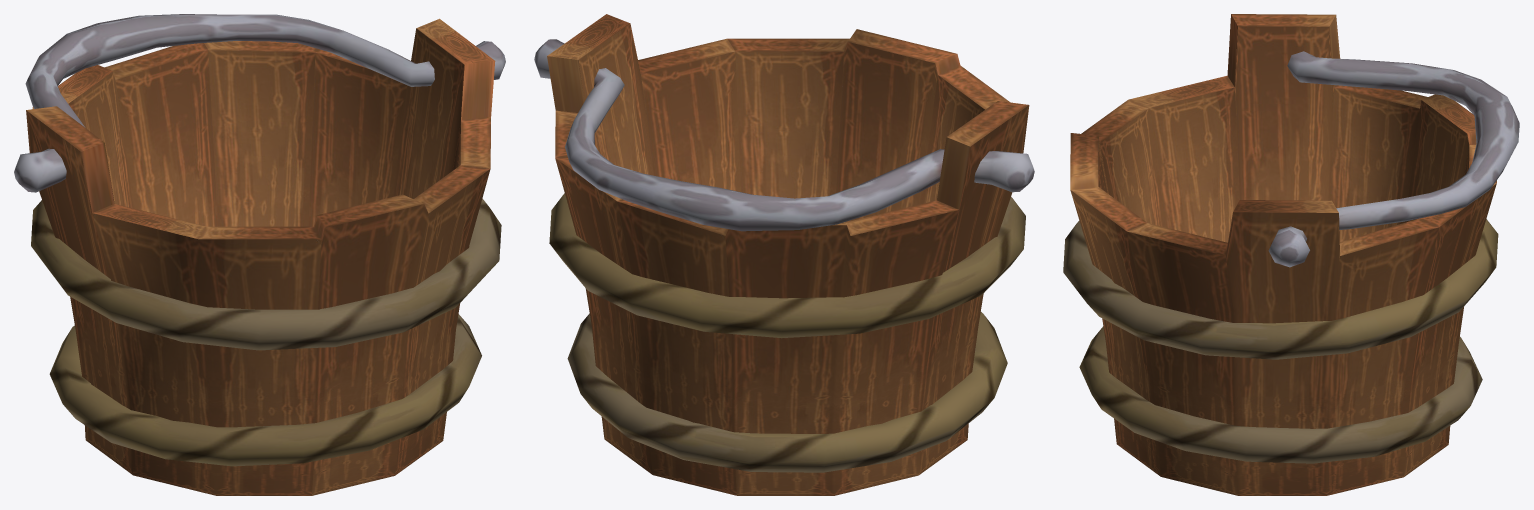
The model's file is Bucket_Wooden_1.gltf.
3 views of the same model, side by side, from view 1: azimuth 30°, elevation 25°; view 2: azimuth 150°, elevation 25°; view 3: azimuth 270°, elevation 25° (orthographic). The views are drawn at different scales.
Visible parts, largest first — view 1: Bucket_Wooden_1; view 2: Bucket_Wooden_1; view 3: Bucket_Wooden_1.
Boxes of the visible parts, x1,y1,x2,y2 form: Bucket_Wooden_1: (14, 14, 505, 495); Bucket_Wooden_1: (534, 14, 1034, 495); Bucket_Wooden_1: (1063, 14, 1519, 495).
Bounding box in the file's own units: 0.4339 × 0.2928 × 0.3835.
Materials: 2 (2 with a texture image).
